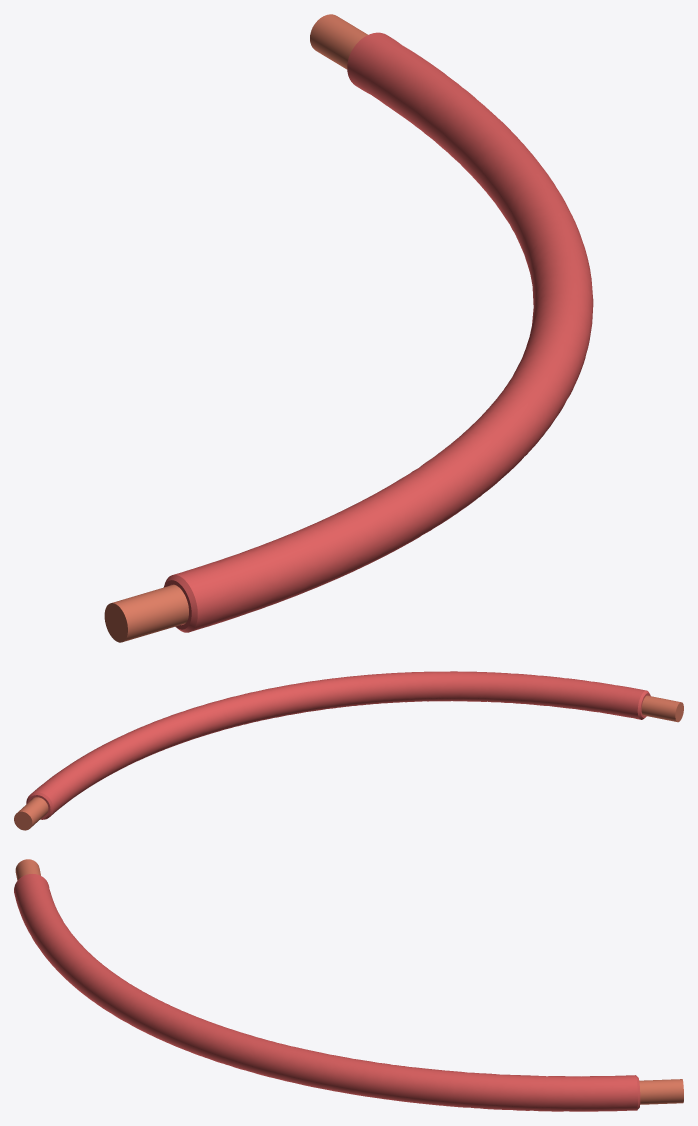
The model's file is BATTERY CRATE STACK V2__BATTERY CRATE L1__MODULE CONNECTION CABLE ASM C__MODULE CONNECTION CABLE C.glb.
3 views of the same model, one above another, from view 1: azimuth 30°, elevation 25°; view 2: azimuth 150°, elevation 25°; view 3: azimuth 270°, elevation 25° (orthographic). The views are drawn at different scales.
Parts seen in each view (by area): view 1: MODULE CONNECTION CABLE C; view 2: MODULE CONNECTION CABLE C; view 3: MODULE CONNECTION CABLE C.
Part boxes in pixels (x1=…): MODULE CONNECTION CABLE C: x1=104, y1=14, x2=593, y2=642; MODULE CONNECTION CABLE C: x1=14, y1=671, x2=683, y2=830; MODULE CONNECTION CABLE C: x1=14, y1=859, x2=683, y2=1111.
Bounding box in the file's own units: 0.3156 × 0.0205 × 0.3859.
